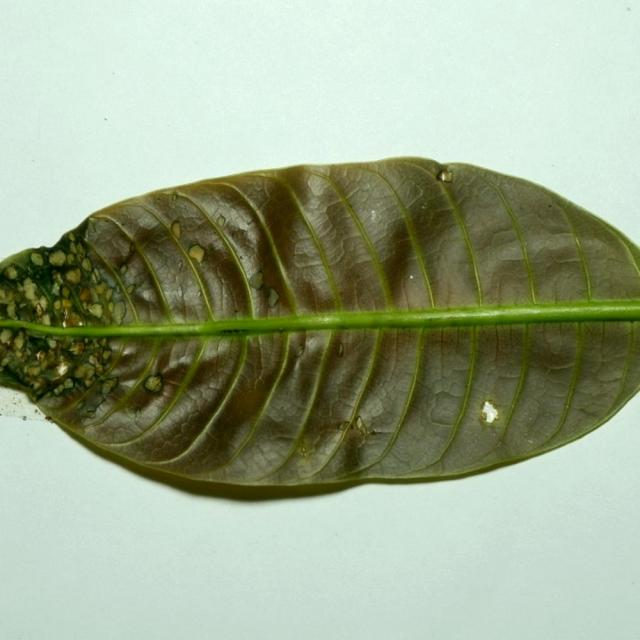Anthracnose: (2, 316, 234, 338), (444, 322, 479, 456), (52, 287, 106, 331), (31, 261, 64, 319), (60, 344, 98, 389), (323, 417, 358, 463), (0, 363, 34, 395), (27, 335, 50, 352)
Mango: (0, 157, 639, 504)
